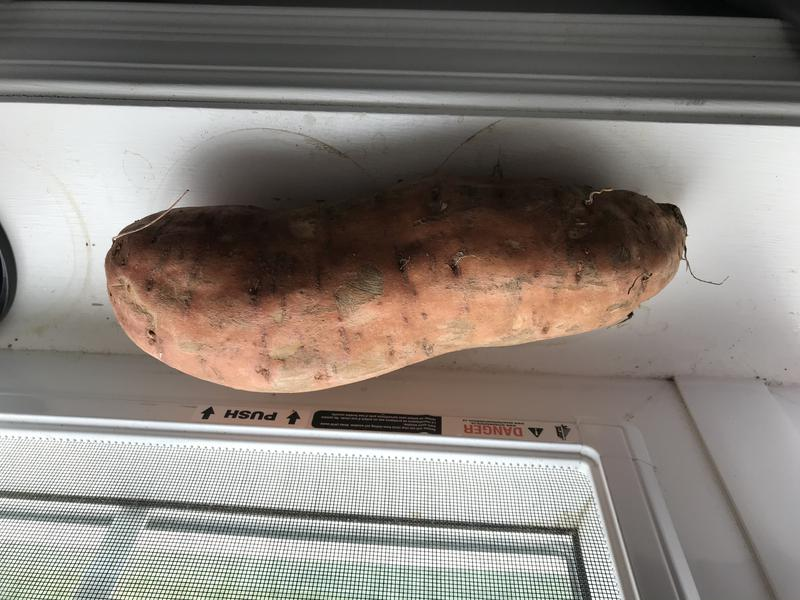sweet_potato: (97, 171, 716, 404)
